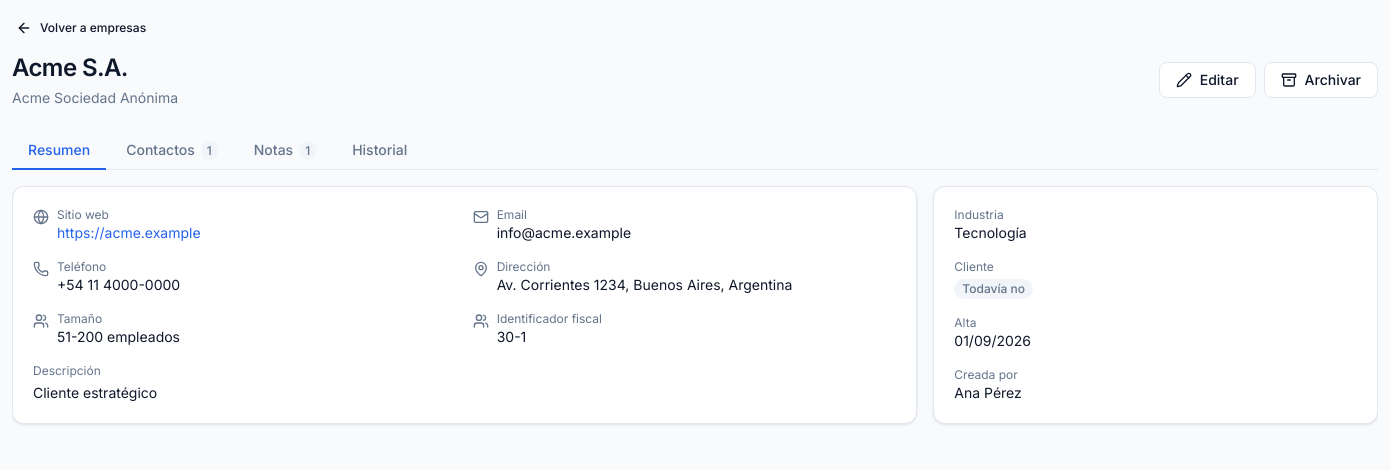
CompanyDetailPage › cambia de pestaña y lista contactos, notas e historial
Check: the heading "Acme S.A." is shown, box [12,53,128,82]
Click the tab "Contactos1" at (172,151), box [110,132,234,170]
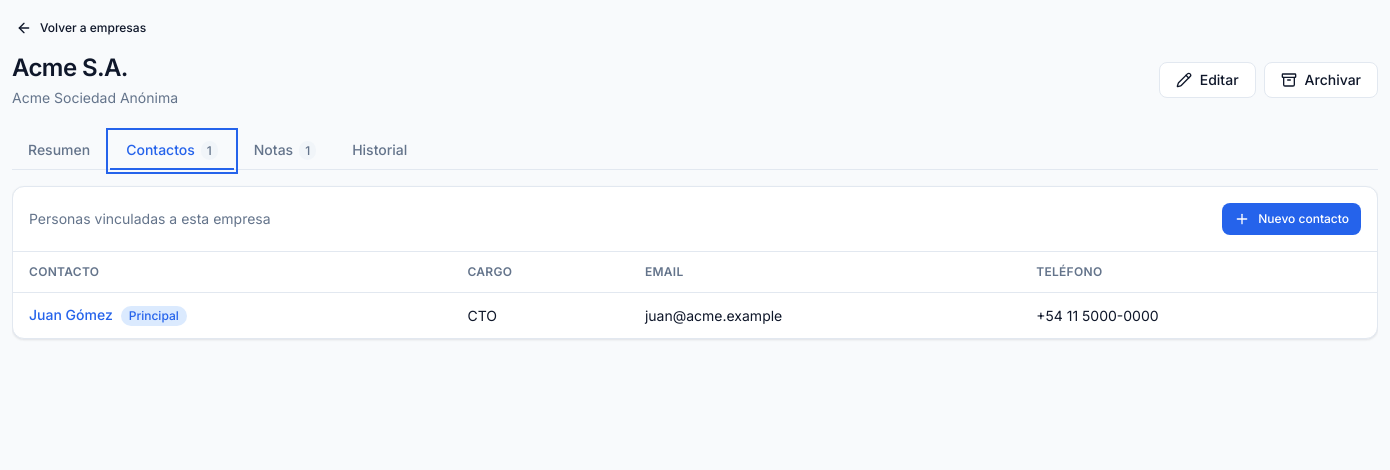
Check: the link "Juan Gómez Principal" is shown, box [29,306,187,323]
Click the tab "Notas1" at (285,151), box [238,132,332,170]
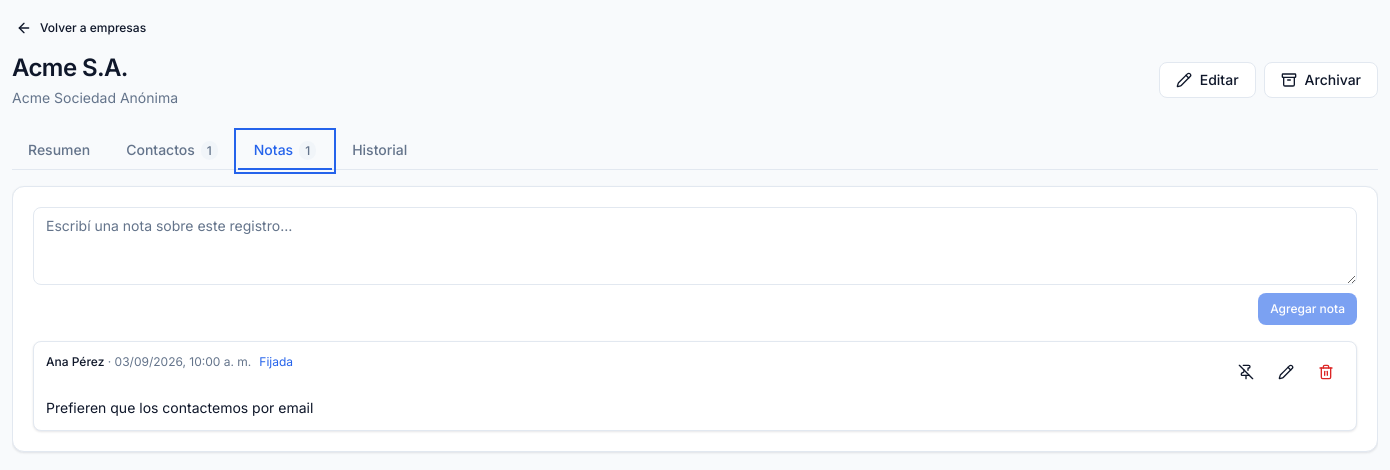
Check: the text "Prefieren que los contactemos por email" is shown, box [46,399,313,416]
Click the tab "Historial" at (380,151), box [336,132,423,170]
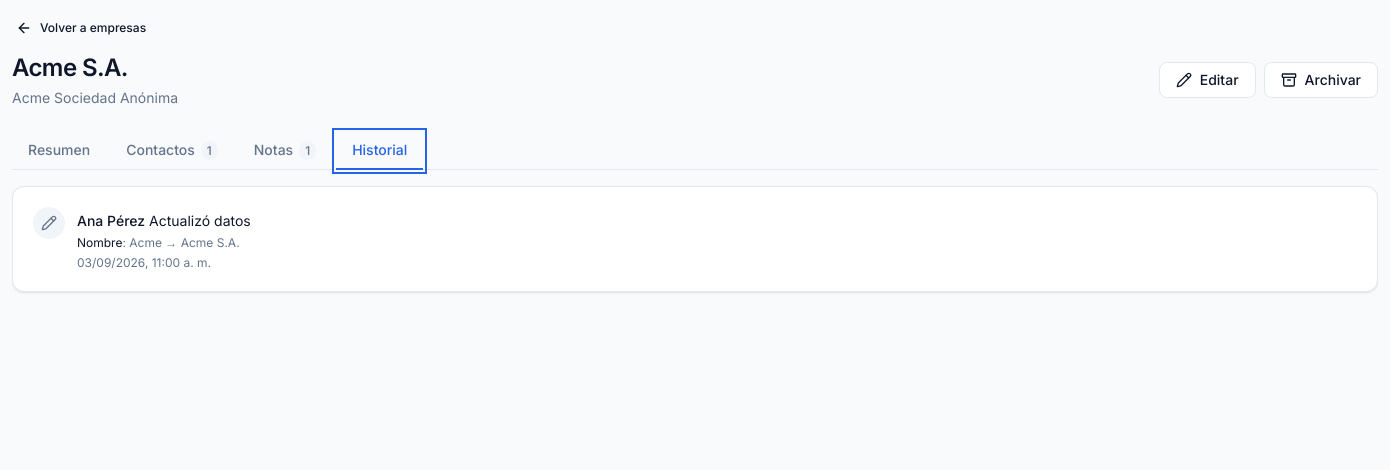
Check: the text "Ana Pérez Actualizó datos" is shown, box [77,212,251,229]
